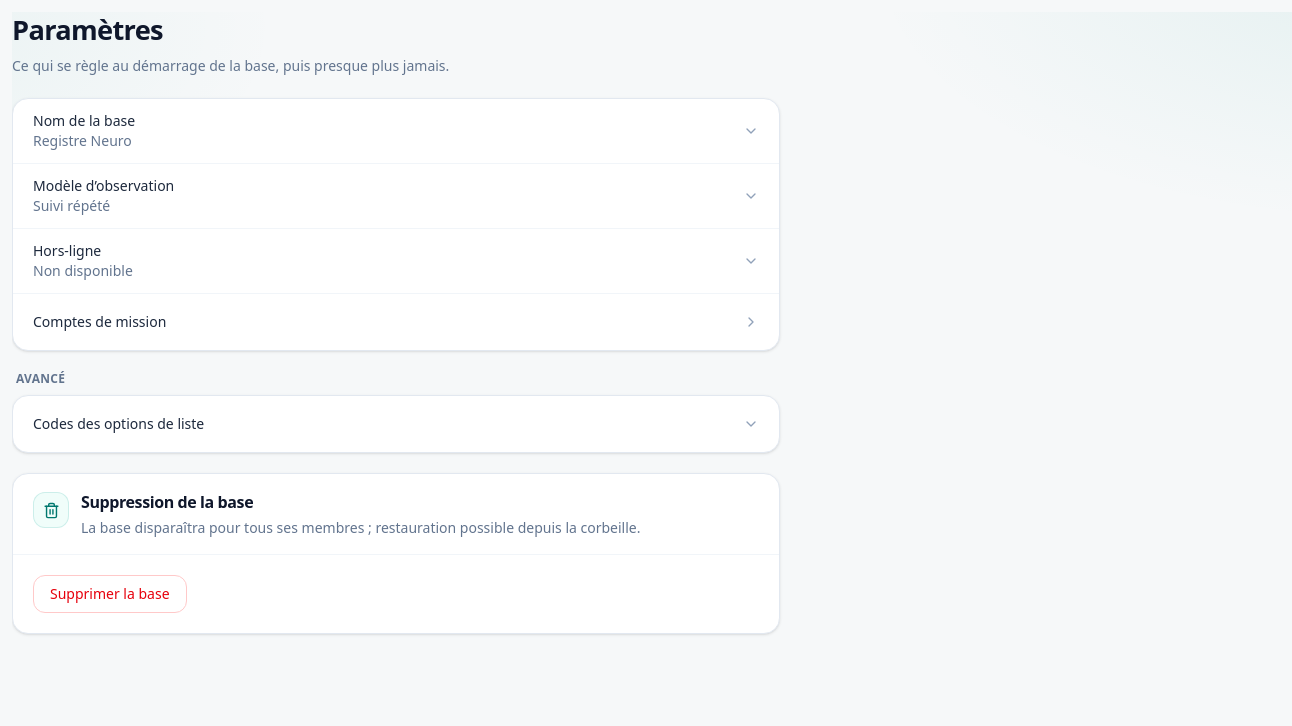
Test: BaseSettings — conversion des codes d options (L30) › un renommage concurrent est explique, et la saisie reste dans le champ
Click the button "Nom de la base Registre Neuro" at (84,121), box [13,99,779,163]
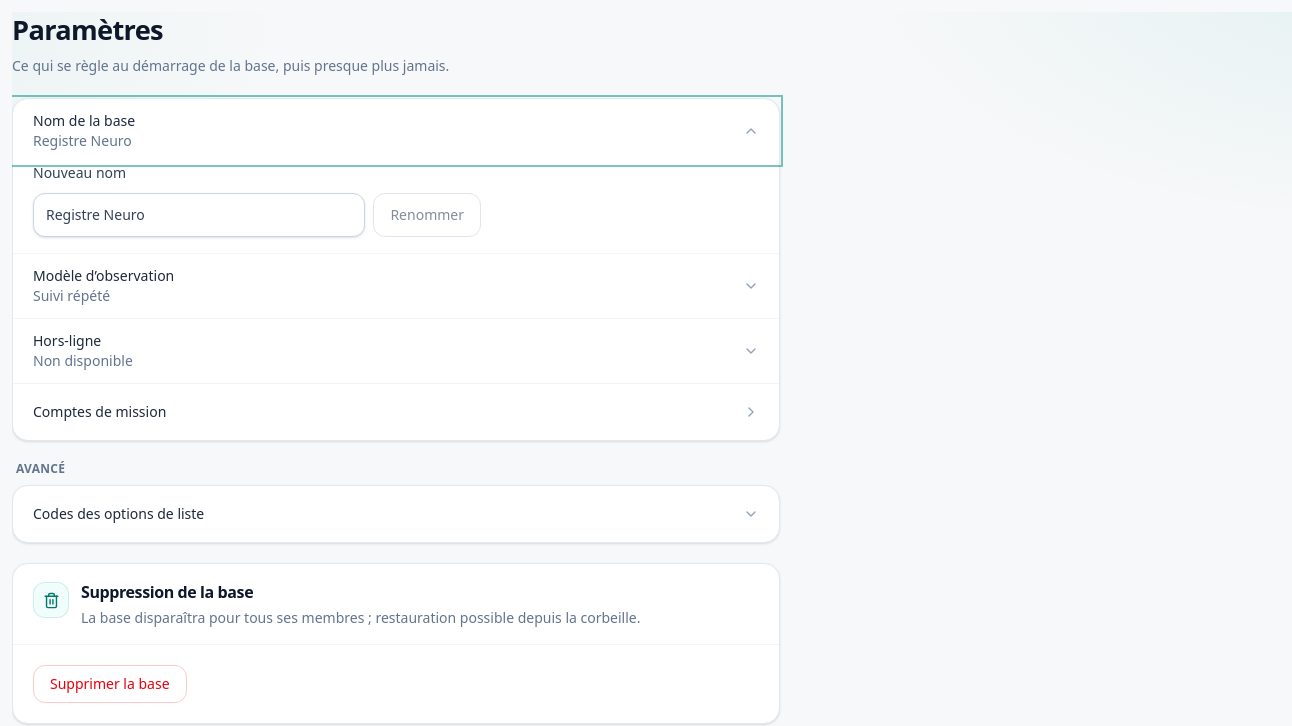
Replace the text in the field labelled "Nouveau nom" with "Autre nom" at (199,215), box [33,193,365,237]
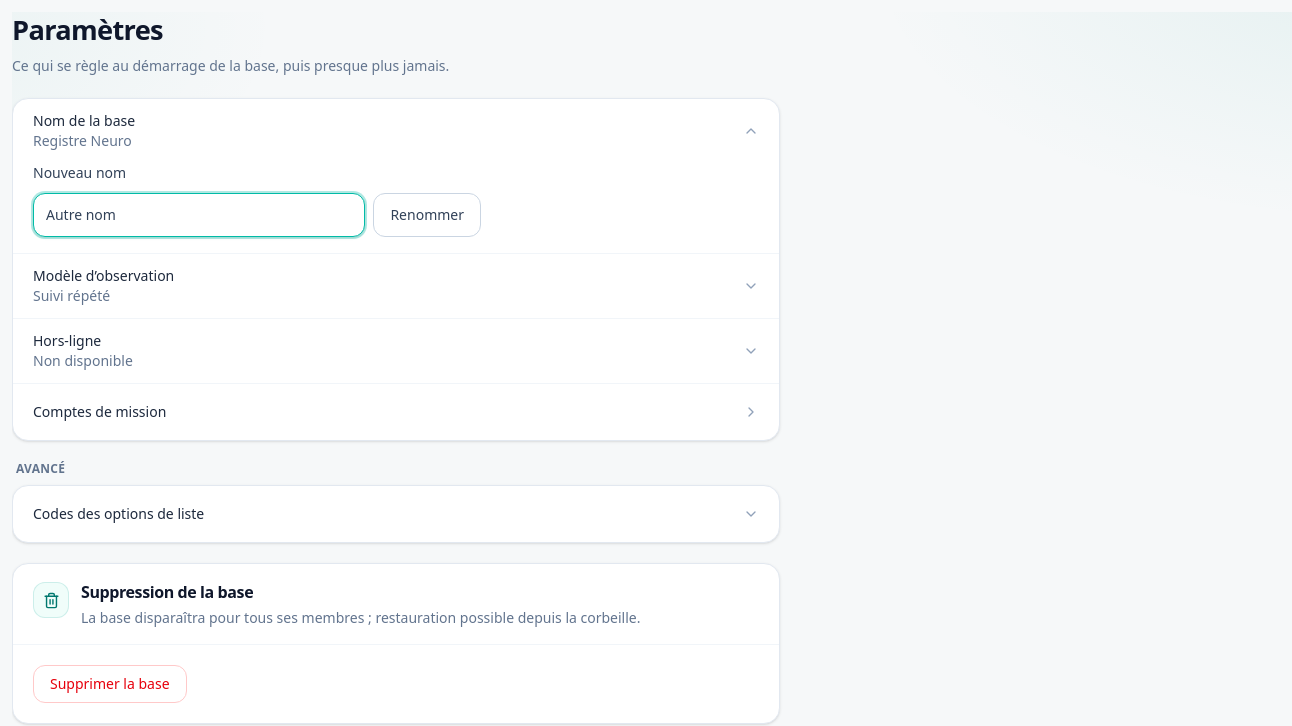
Click the button "Renommer" at (427,215), box [373,193,481,237]
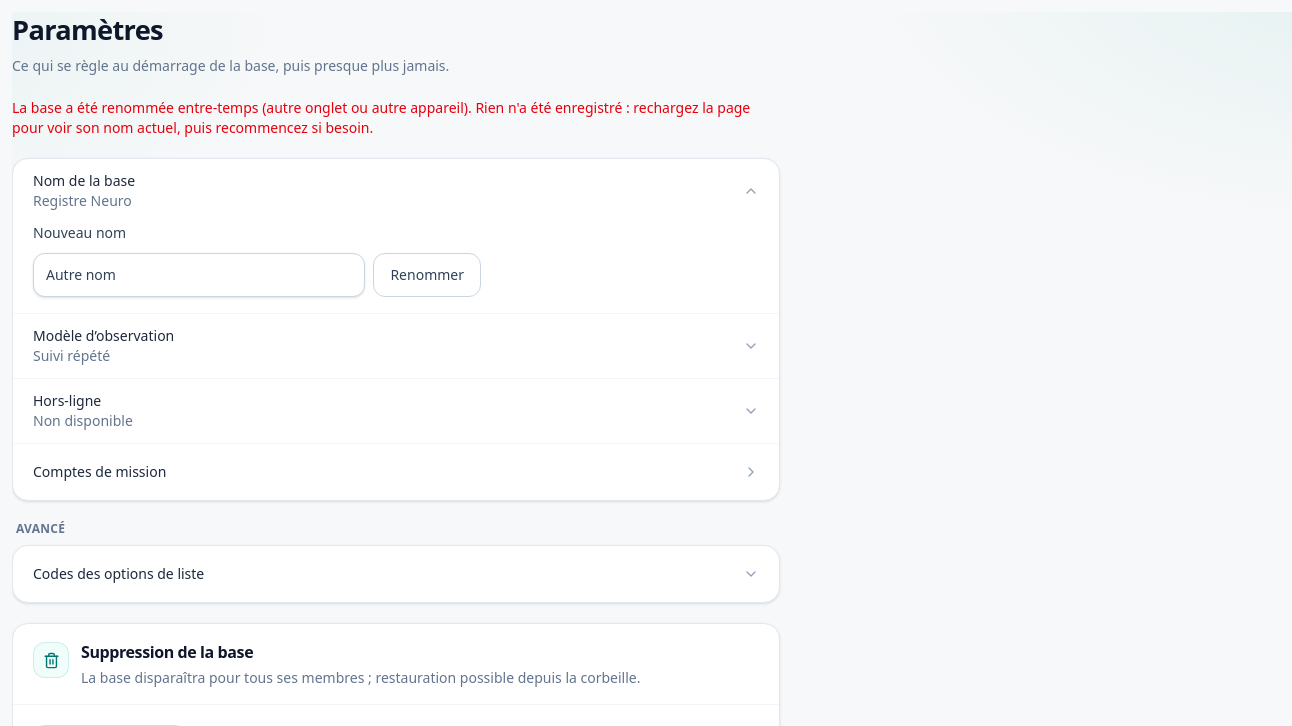
Now the message shows "renommée entre-temps", box [12,98,750,137]
